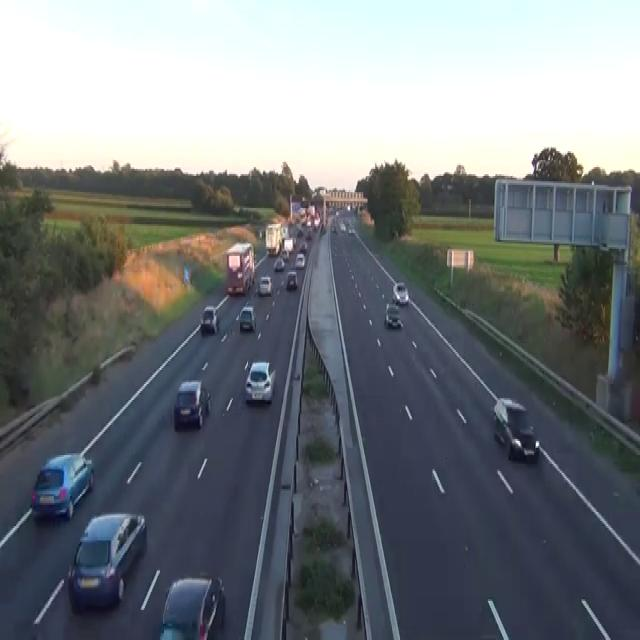Car: (67, 512, 146, 613), (30, 451, 94, 521), (159, 572, 225, 638), (492, 397, 540, 462), (173, 379, 211, 430), (244, 359, 275, 404), (200, 304, 218, 332), (239, 304, 256, 331), (384, 302, 402, 327), (392, 281, 408, 306), (258, 276, 272, 295), (286, 270, 297, 290), (295, 252, 305, 268), (273, 258, 285, 270), (283, 237, 293, 250), (267, 245, 277, 256), (299, 242, 307, 252), (282, 249, 289, 259), (320, 222, 326, 233), (296, 228, 303, 236), (306, 218, 311, 228), (348, 226, 354, 234), (306, 230, 312, 238), (331, 224, 336, 233), (340, 222, 345, 231), (353, 204, 358, 213), (292, 237, 296, 247), (259, 230, 263, 238), (347, 202, 350, 210)
Truck: (225, 242, 254, 295), (265, 222, 282, 256)
